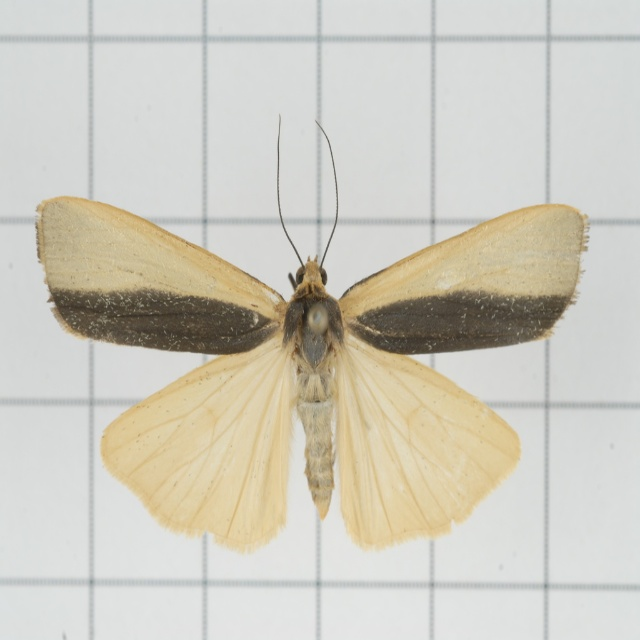Butterfly: (36, 114, 594, 554)
